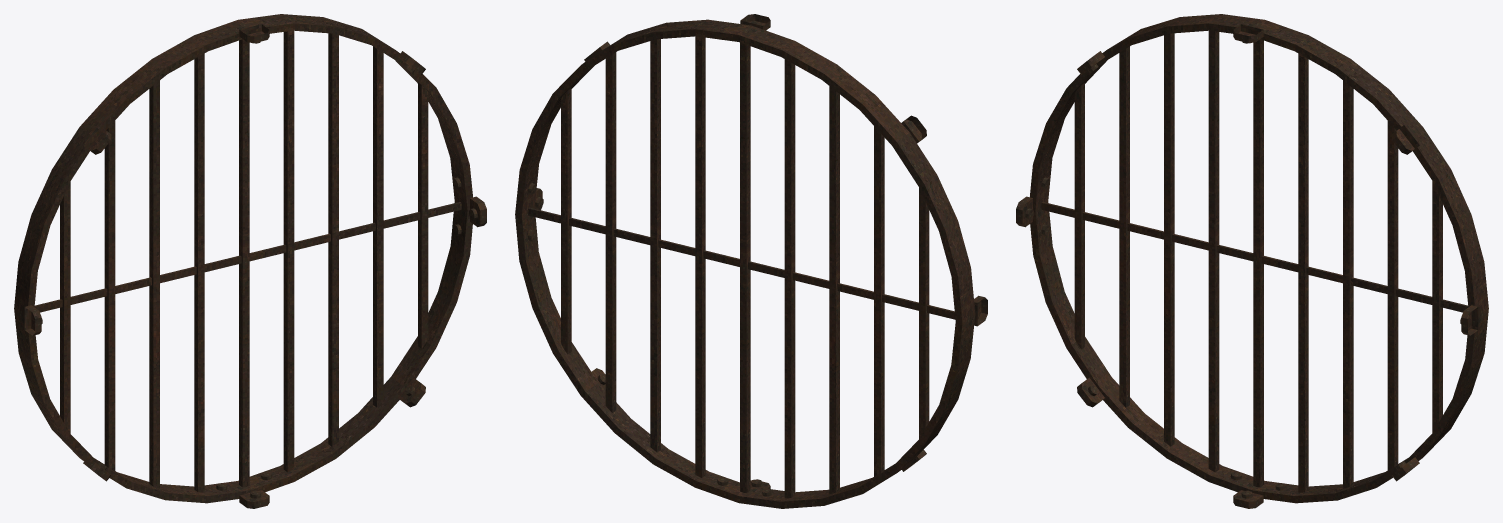
Rendered from concrete_pipe_hm_1_end_bars_1.glb.
The picture shows the model from 3 angles, left to right: view 1: azimuth 30°, elevation 25°; view 2: azimuth 150°, elevation 25°; view 3: azimuth 330°, elevation 25°; orthographic projection.
Parts seen in each view (by area): view 1: concrete_pipe_hm_1_end_bars_1; view 2: concrete_pipe_hm_1_end_bars_1; view 3: concrete_pipe_hm_1_end_bars_1.
Boxes of the visible parts, <box> form: concrete_pipe_hm_1_end_bars_1: <box>14,14,486,508</box>; concrete_pipe_hm_1_end_bars_1: <box>515,14,987,508</box>; concrete_pipe_hm_1_end_bars_1: <box>1016,14,1488,508</box>.
Bounding box in the file's own units: 2.02 × 2.02 × 0.18.
Materials: 1 (1 with a texture image).
